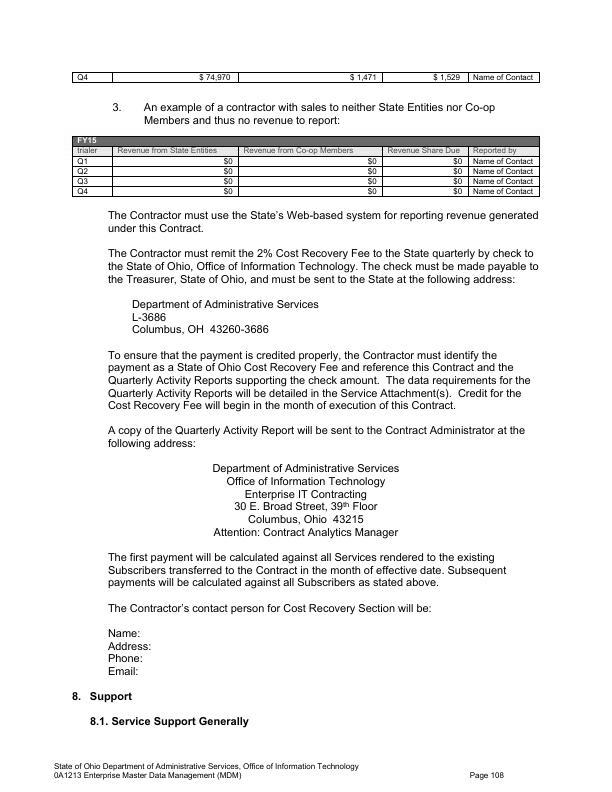input: (106, 626, 286, 680)
table: (68, 131, 545, 202), (70, 66, 545, 85)
text: (103, 207, 549, 618), (110, 97, 498, 126), (50, 757, 364, 780), (86, 715, 254, 728), (67, 689, 138, 703), (464, 766, 506, 781)
